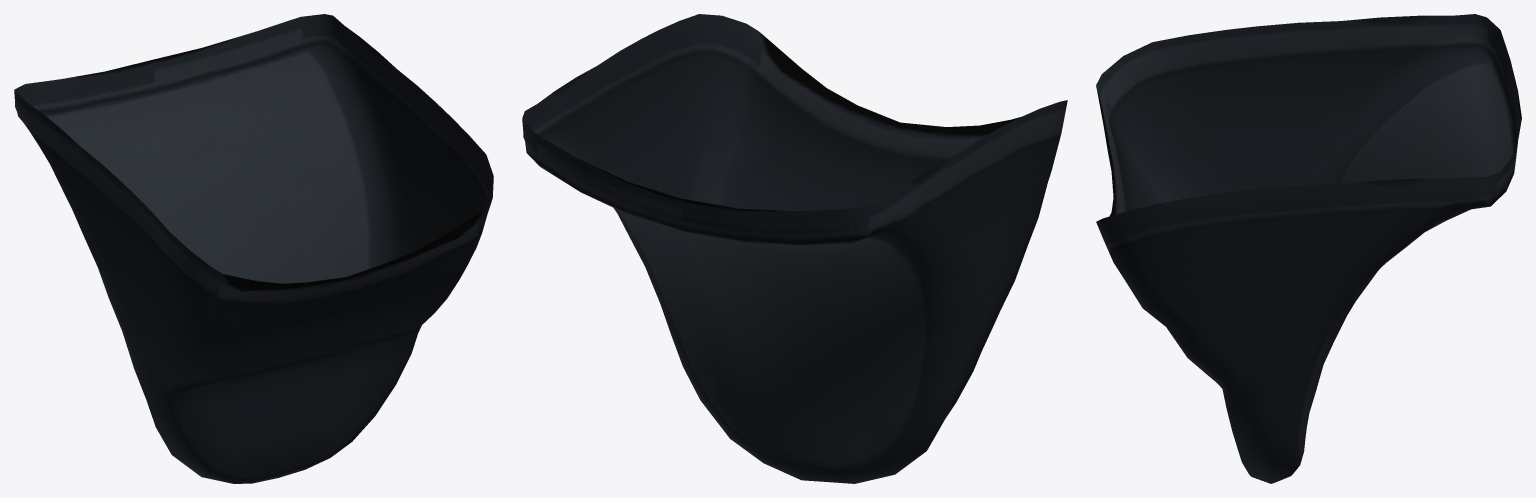
Rendered from right_trigger.obj.
The picture shows the model from 3 angles, left to right: view 1: azimuth 30°, elevation 25°; view 2: azimuth 150°, elevation 25°; view 3: azimuth 270°, elevation 25°; orthographic projection. The views are drawn at different scales.
Visible parts, largest first — view 1: right_trigger; view 2: right_trigger; view 3: right_trigger.
Boxes of the visible parts, x1=… form: right_trigger: x1=14, y1=14, x2=493, y2=483; right_trigger: x1=522, y1=14, x2=1067, y2=483; right_trigger: x1=1096, y1=14, x2=1521, y2=483.
Size of the model in its own units: 0.0198 by 0.0211 by 0.0219.
Materials: 1 (1 with a texture image).
